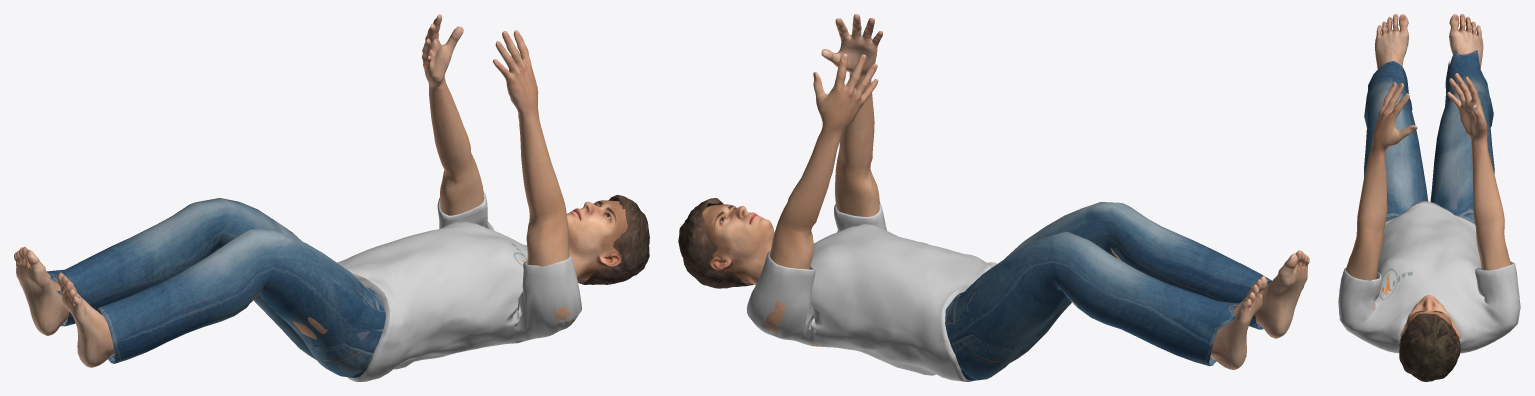
The model's file is human-lateral.glb.
3 views of the same model, side by side, from view 1: azimuth 30°, elevation 25°; view 2: azimuth 150°, elevation 25°; view 3: azimuth 270°, elevation 25° (orthographic). The views are drawn at different scales.
Visible parts, largest first — view 1: Clothes, Body, Hair, BodyFull; view 2: Clothes, Body, Hair; view 3: Clothes, Body, Hair, Briefs.
Boxes of the visible parts, left/top/right/bottom form: Clothes: left=46, top=192, right=581, bottom=381; Body: left=14, top=14, right=627, bottom=367; Hair: left=578, top=194, right=649, bottom=284; BodyFull: left=250, top=291, right=573, bottom=339; Clothes: left=746, top=202, right=1271, bottom=381; Body: left=702, top=14, right=1309, bottom=369; Hair: left=678, top=198, right=753, bottom=288; Clothes: left=1338, top=50, right=1520, bottom=353; Body: left=1346, top=14, right=1511, bottom=346; Hair: left=1399, top=313, right=1460, bottom=381; Briefs: left=1449, top=180, right=1458, bottom=210.
Size of the model in its own units: 1.67 by 0.8507 by 0.5186.
7 materials, 6 textured.
